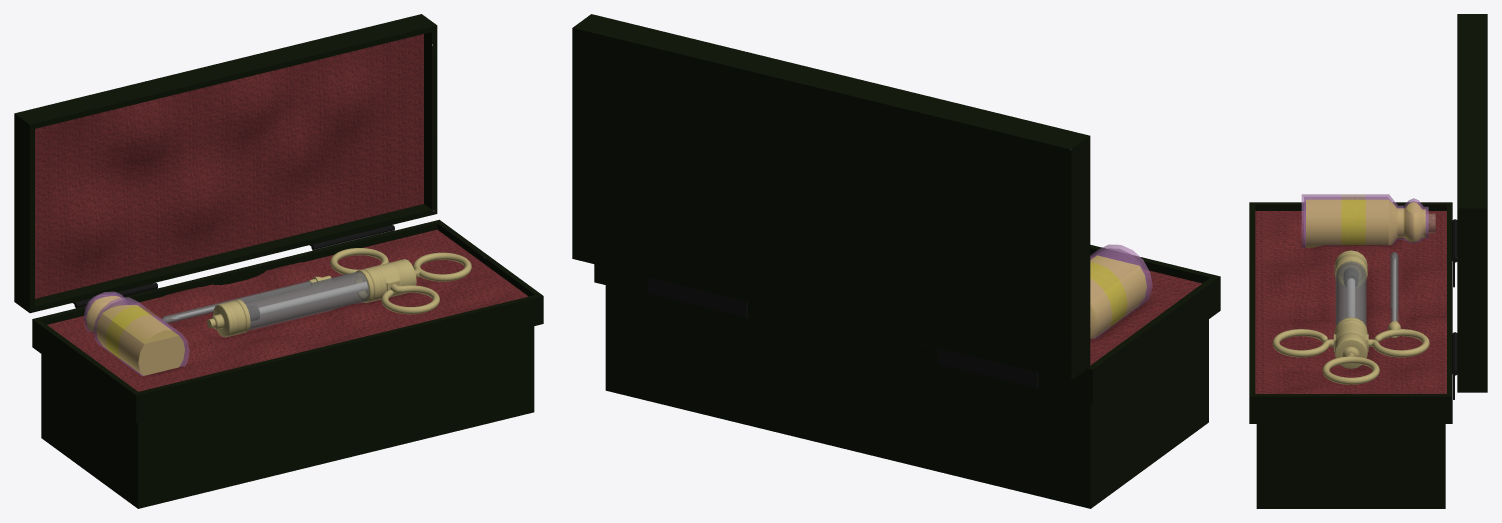
The model's file is syringe_aot.glb.
The picture shows the model from 3 angles, left to right: view 1: azimuth 30°, elevation 25°; view 2: azimuth 150°, elevation 25°; view 3: azimuth 270°, elevation 25°; orthographic projection. The views are drawn at different scales.
Parts seen in each view (by area): view 1: Jarum_suntik_AOT_kotak_5, Jarum_suntik_AOT_kain01_6, Jarum_suntik_AOT_kain02_3, Jarum_suntik_AOT_0, Jarum_suntik_AOT_botol_2, Jarum_suntik_AOT_kaca_1, Jarum_suntik_AOT_isi_4; view 2: Jarum_suntik_AOT_kotak_5, Jarum_suntik_AOT_botol_2, Jarum_suntik_AOT_isi_4, Jarum_suntik_AOT_kain02_3; view 3: Jarum_suntik_AOT_kotak_5, Jarum_suntik_AOT_kain02_3, Jarum_suntik_AOT_botol_2, Jarum_suntik_AOT_0, Jarum_suntik_AOT_isi_4, Jarum_suntik_AOT_kaca_1.
Boxes of the visible parts, bbox=[...] form: Jarum_suntik_AOT_kotak_5: bbox=[14, 14, 543, 508]; Jarum_suntik_AOT_kain01_6: bbox=[35, 34, 423, 298]; Jarum_suntik_AOT_kain02_3: bbox=[47, 229, 528, 391]; Jarum_suntik_AOT_0: bbox=[172, 248, 471, 337]; Jarum_suntik_AOT_botol_2: bbox=[83, 291, 189, 376]; Jarum_suntik_AOT_kaca_1: bbox=[161, 271, 369, 330]; Jarum_suntik_AOT_isi_4: bbox=[86, 296, 184, 375]; Jarum_suntik_AOT_kotak_5: bbox=[572, 14, 1220, 508]; Jarum_suntik_AOT_botol_2: bbox=[1090, 244, 1152, 338]; Jarum_suntik_AOT_isi_4: bbox=[1090, 255, 1146, 338]; Jarum_suntik_AOT_kain02_3: bbox=[1090, 256, 1201, 365]; Jarum_suntik_AOT_kotak_5: bbox=[1249, 14, 1487, 508]; Jarum_suntik_AOT_kain02_3: bbox=[1255, 211, 1446, 393]; Jarum_suntik_AOT_botol_2: bbox=[1301, 194, 1435, 247]; Jarum_suntik_AOT_0: bbox=[1272, 250, 1429, 384]; Jarum_suntik_AOT_isi_4: bbox=[1306, 199, 1425, 247]; Jarum_suntik_AOT_kaca_1: bbox=[1335, 252, 1398, 326].
Bounding box in the file's own units: 5.16 × 3.76 × 2.67.
7 materials, 7 textured.
